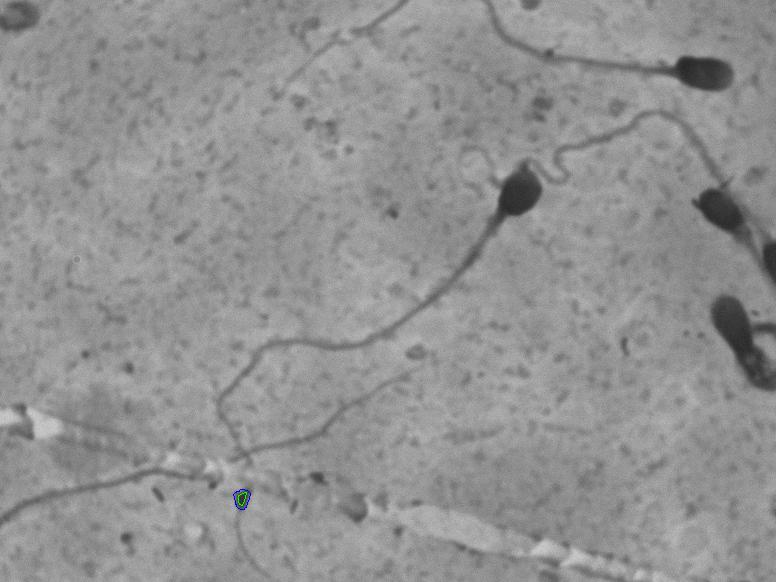Abnormal: (206, 162, 565, 454)
